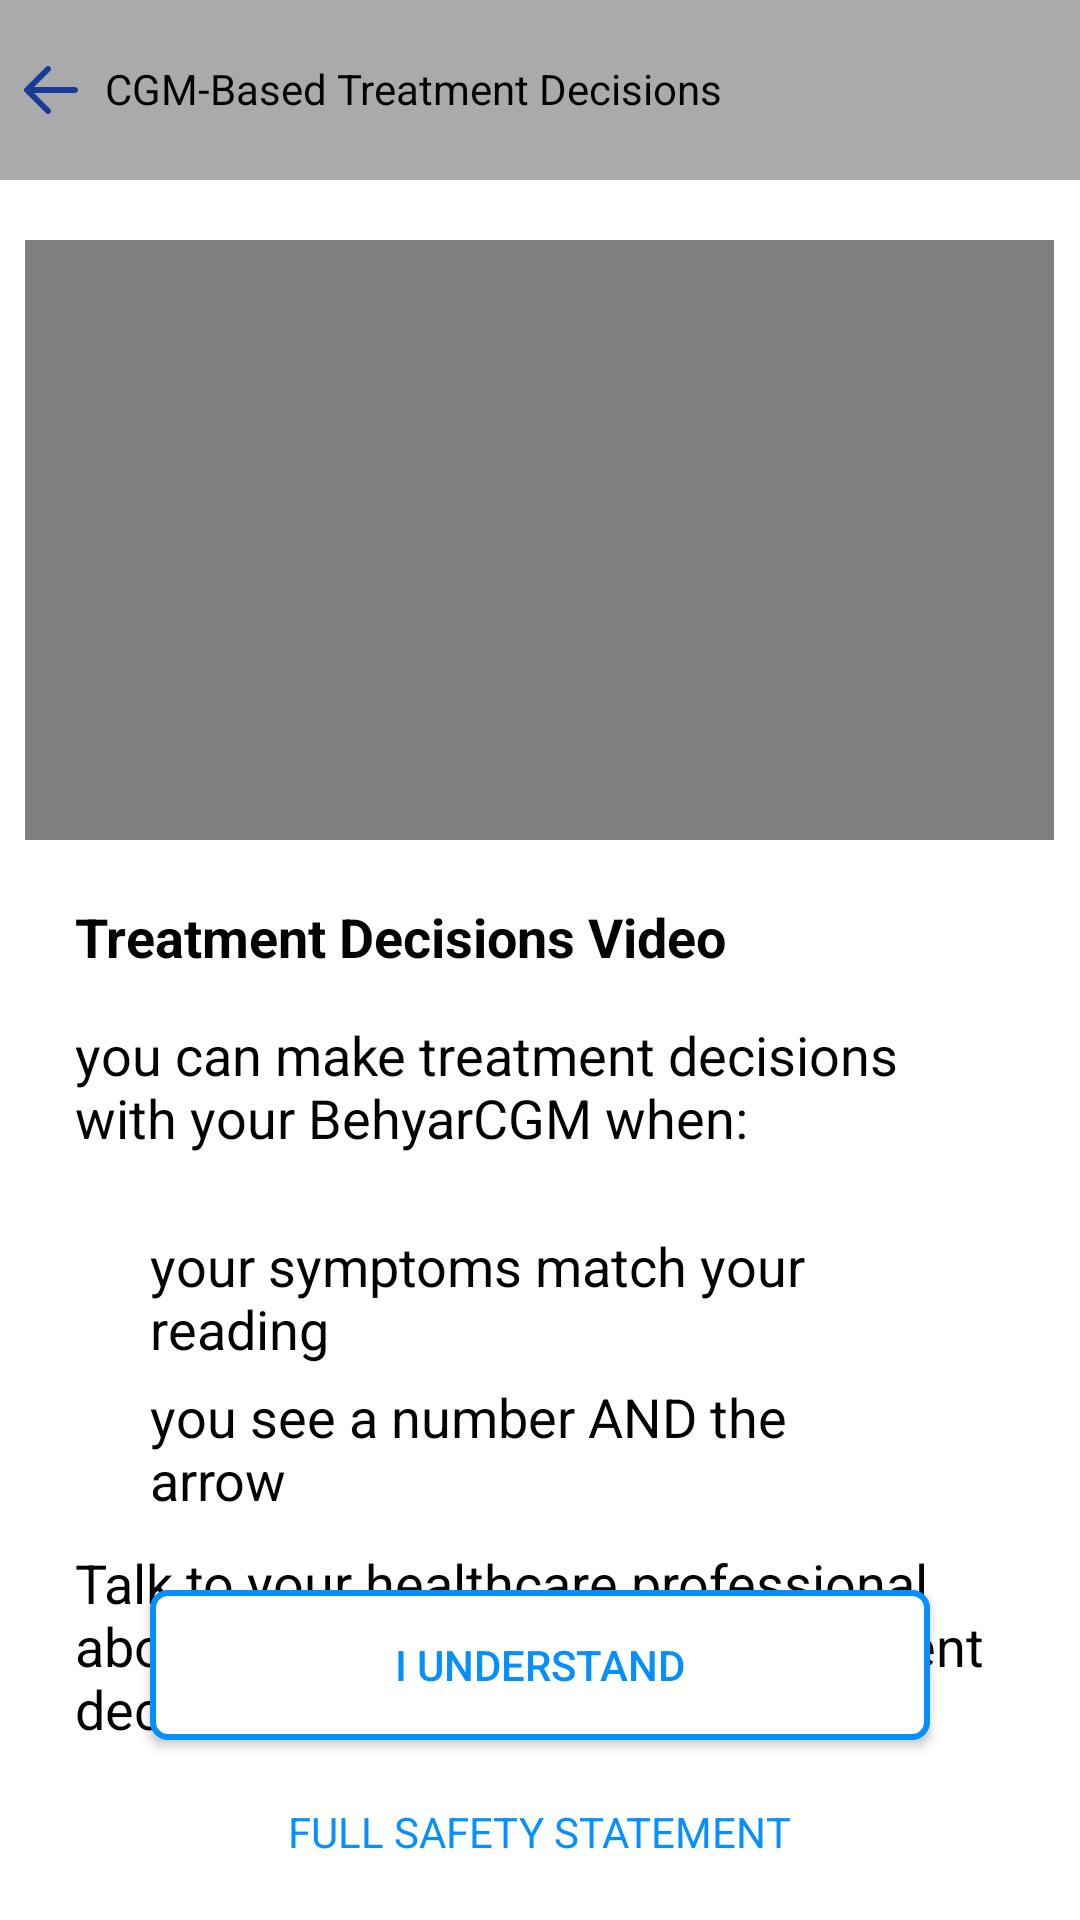

Icons on this 1080 x 1920 Android screen, each with the point to tap as [x,y]:
left: [51,90]
